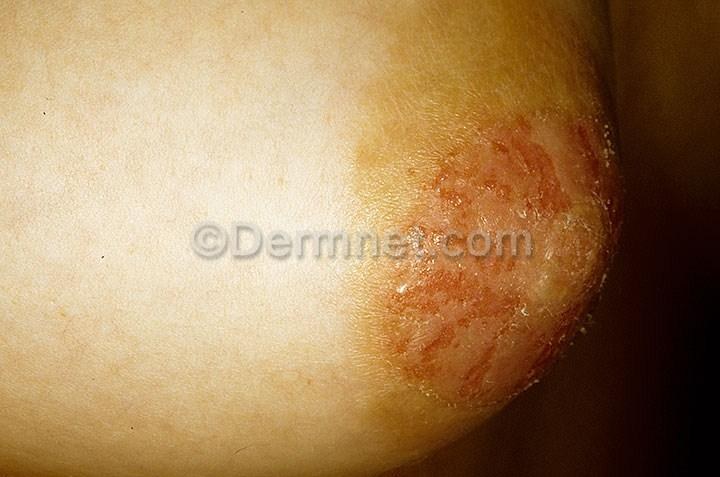Eczema: (366, 227, 517, 411), (421, 75, 554, 228), (553, 87, 649, 203), (521, 207, 640, 298), (511, 305, 591, 381)
